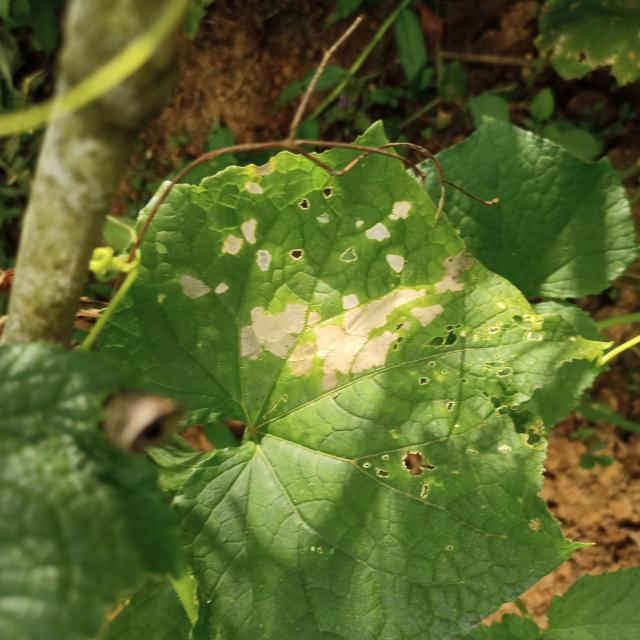disease_cucumber: (178, 164, 478, 396)
